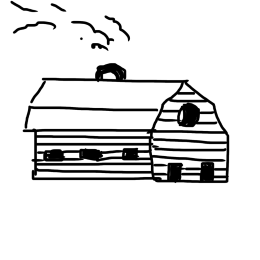closed_window: (73, 143, 106, 165), (40, 141, 68, 166), (118, 144, 145, 166)
door: (194, 152, 220, 187), (164, 159, 188, 186)
roof: (20, 74, 232, 133)
smoking_chimney: (11, 0, 139, 81)
wall: (146, 127, 236, 187)
